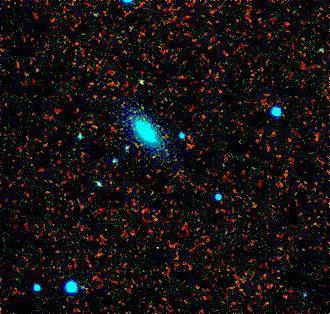star: (136, 179, 166, 209)
